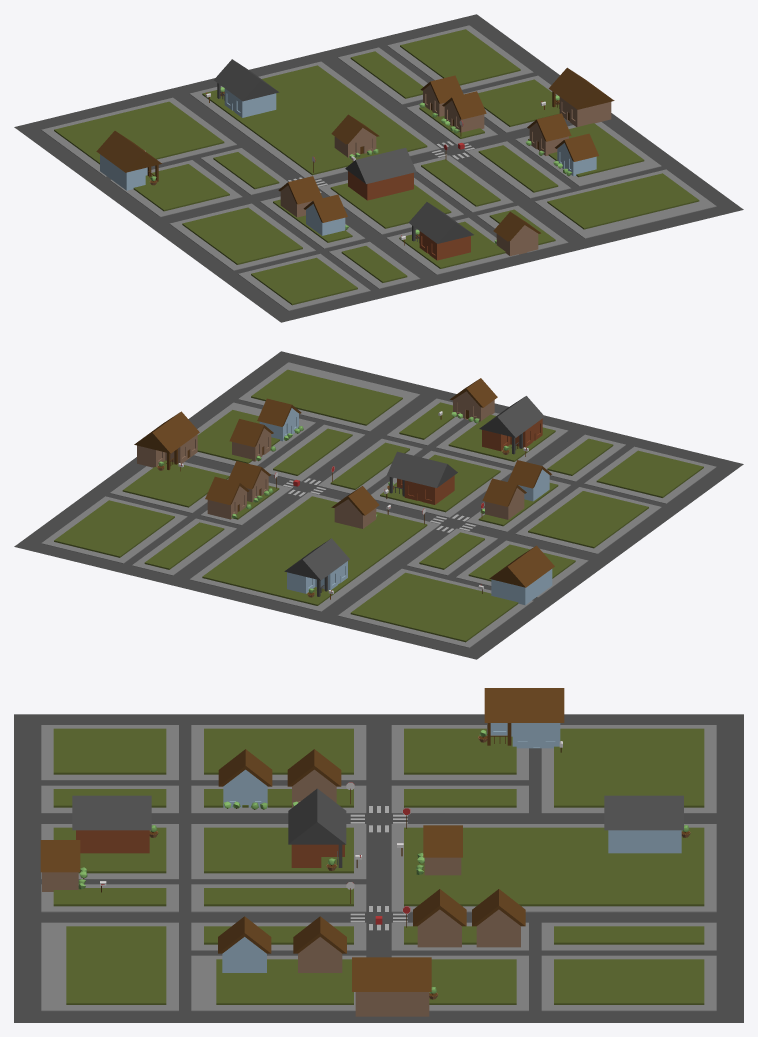
File: MapExportTest.fbx
3 renders of one model, top to bottom at view 1: azimuth 30°, elevation 25°; view 2: azimuth 150°, elevation 25°; view 3: azimuth 270°, elevation 25°, orthographic. The views are drawn at different scales.
Visible parts, largest first — view 1: pPlane2, pPlane3, pCylinder3 (×5), pPrism1 (×8), pCube1 (×5), pCube11 (×6); view 2: pPlane2, pPlane3, pCylinder3 (×5), pPrism1 (×8), pCube1 (×5), pCube11 (×6); view 3: pPlane2, pPlane3, pCylinder3 (×5), pPrism1 (×8), pCube11 (×8), pCube1 (×5).
Boxes of the visible parts, x1,y1,x2,y2 form: pPlane2: (41, 25, 716, 310); pPlane3: (14, 14, 743, 322); pCylinder3 (×5): (96, 59, 614, 243); pPrism1 (×8): (278, 75, 598, 241); pCube1 (×5): (100, 88, 611, 260); pCube11 (×6): (306, 101, 596, 256); pPlane2: (41, 362, 716, 647); pPlane3: (14, 351, 743, 659); pCylinder3 (×5): (134, 396, 554, 587); pPrism1 (×8): (205, 378, 551, 515); pCube1 (×5): (137, 418, 552, 605); pCube11 (×6): (207, 391, 524, 528); pPlane2: (41, 725, 716, 1011); pPlane3: (14, 714, 743, 1022); pCylinder3 (×5): (72, 688, 683, 991); pPrism1 (×8): (40, 749, 525, 953); pCube11 (×8): (42, 769, 520, 972); pCube1 (×5): (76, 723, 681, 1016).
Bounding box in the file's own units: 86.4 × 7.84 × 86.4.
